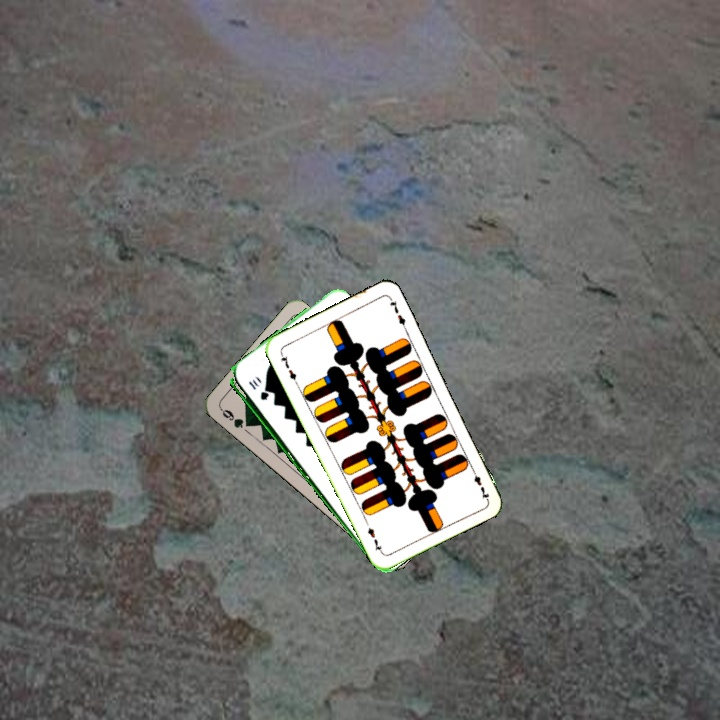E7: (467, 464, 492, 502), (276, 348, 300, 386)
G10: (244, 377, 270, 403)
G9: (216, 404, 255, 431)
